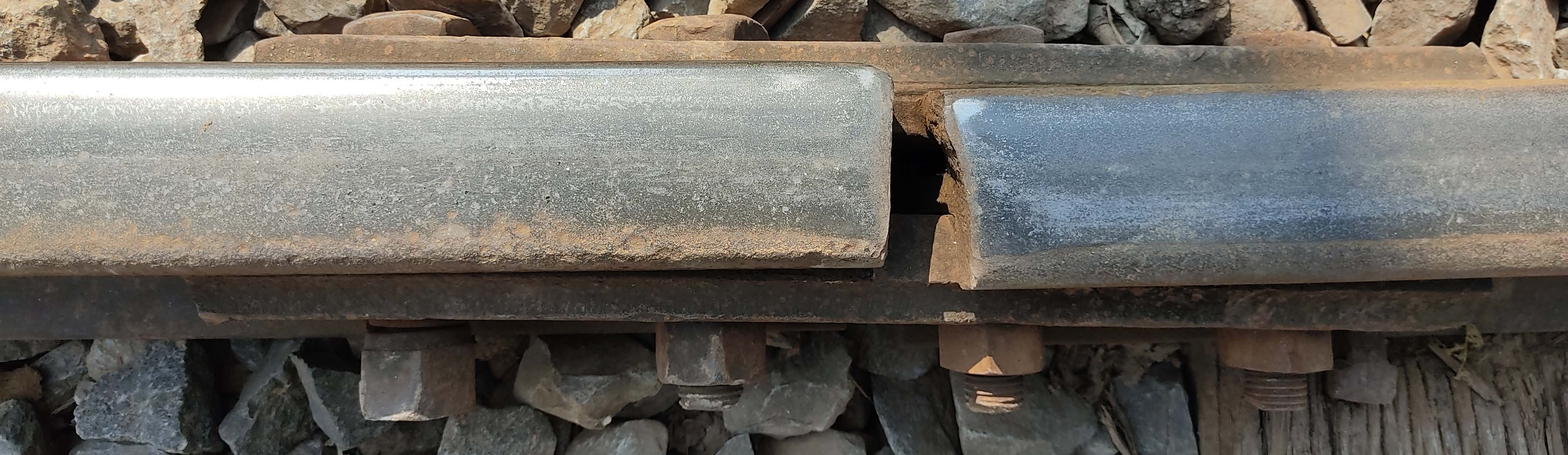duan lie: (844, 48, 1023, 314)
